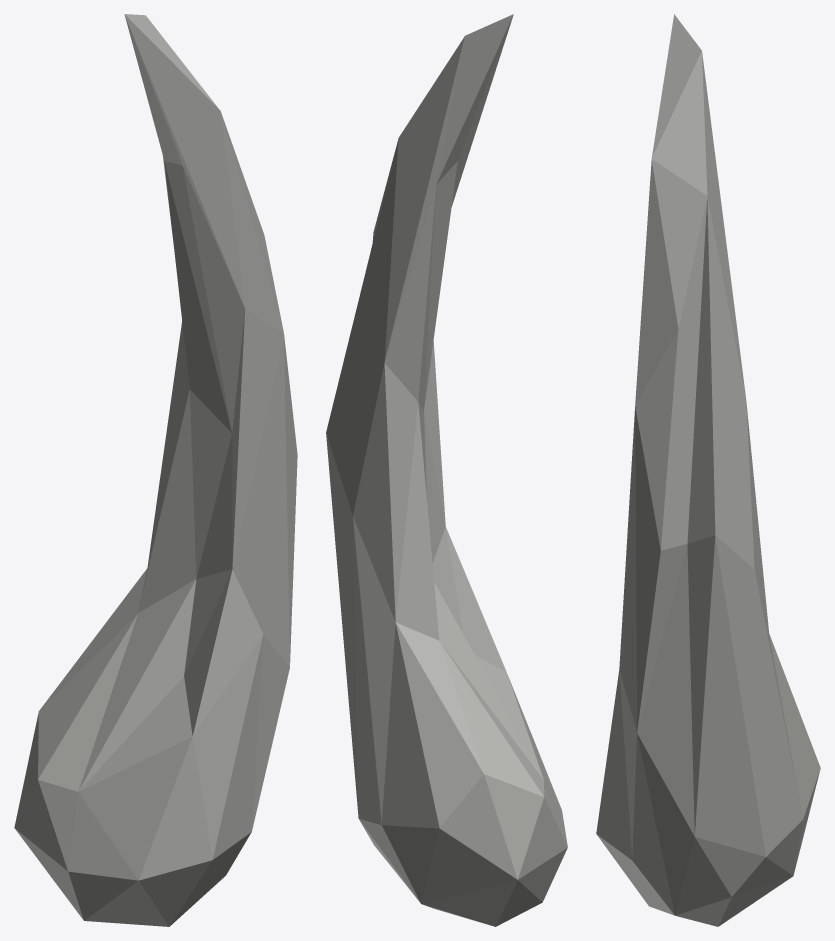
Rendered from YN_Bones.fbx.
3 views of the same model, side by side, from view 1: azimuth 30°, elevation 25°; view 2: azimuth 150°, elevation 25°; view 3: azimuth 270°, elevation 25° (orthographic). The views are drawn at different scales.
Parts seen in each view (by area): view 1: YN_Bones; view 2: YN_Bones; view 3: YN_Bones.
Part boxes in pixels (left/top/right/bottom): YN_Bones: left=14, top=14, right=297, bottom=926; YN_Bones: left=326, top=14, right=567, bottom=926; YN_Bones: left=596, top=14, right=820, bottom=926.
Bounding box in the file's own units: 2.14 × 8.18 × 1.88.
